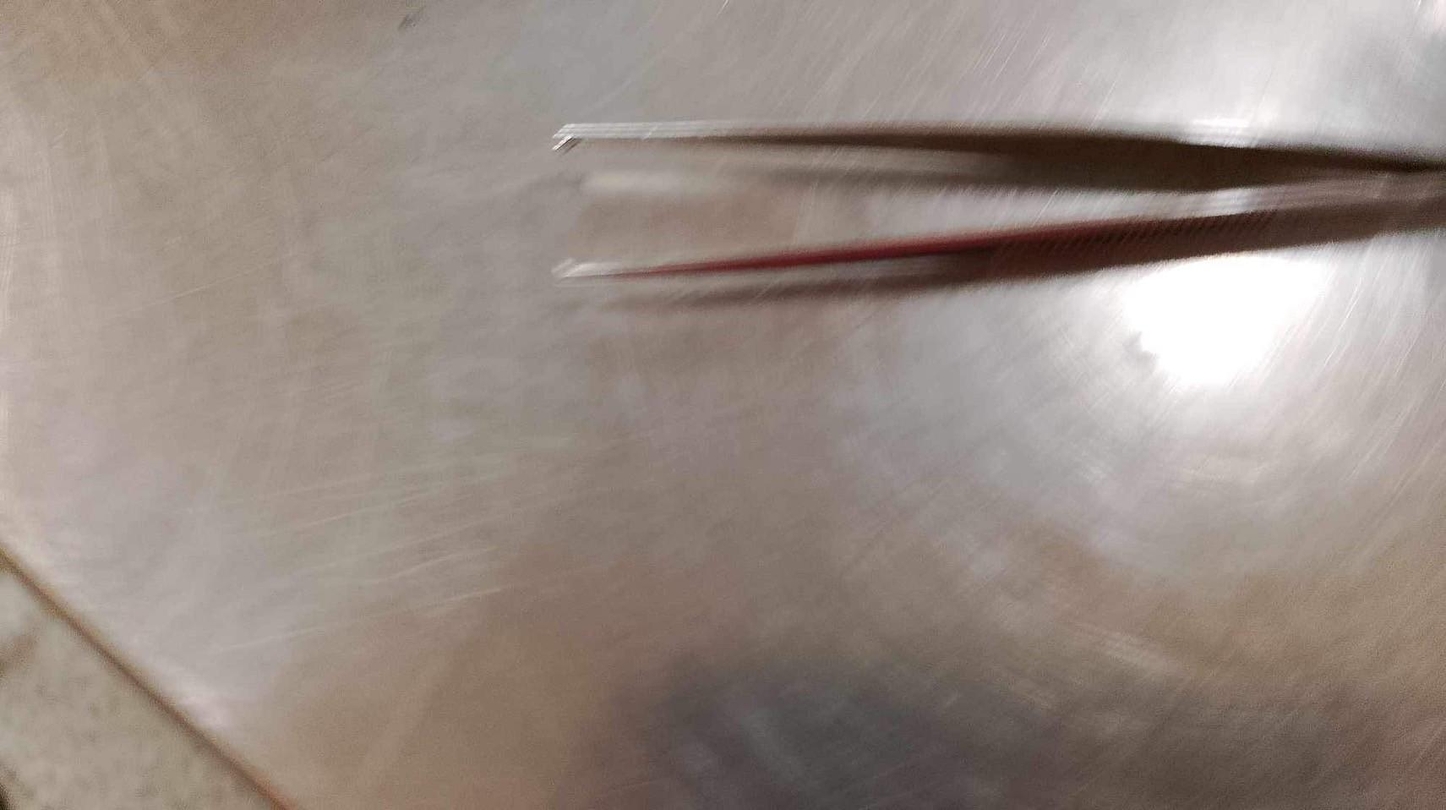General: (5, 4, 1439, 804)
Sharps: (550, 170, 1443, 284)
